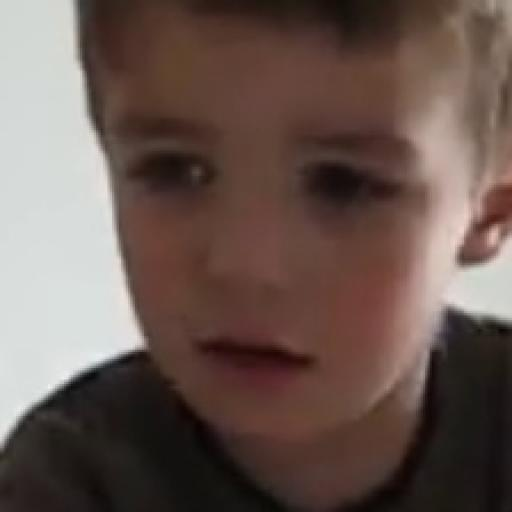Autism: (77, 40, 512, 512)
